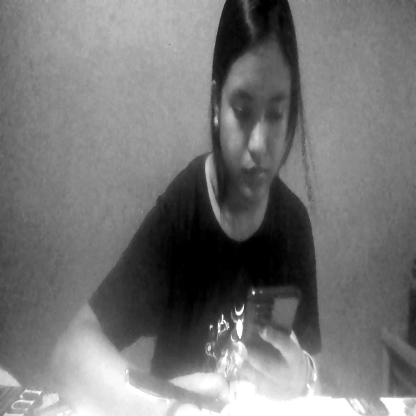Distracted: (209, 0, 300, 197)
